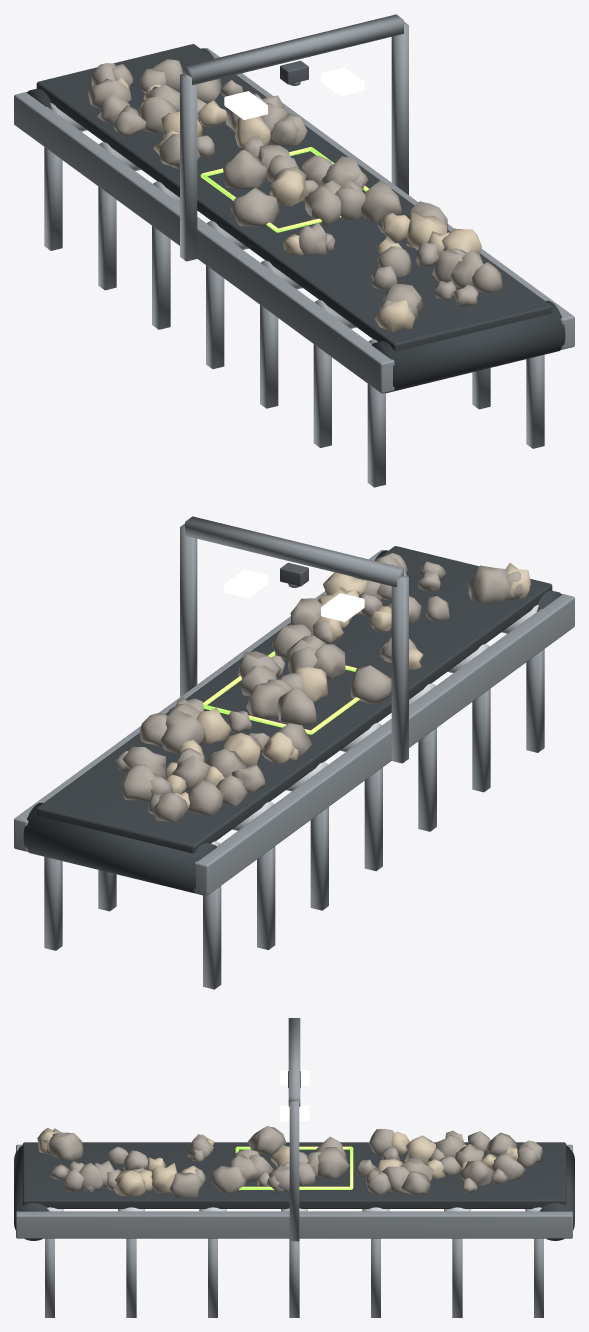
File: smart-conveyor-monitoring.glb
3 renders of one model, top to bottom at view 1: azimuth 30°, elevation 25°; view 2: azimuth 150°, elevation 25°; view 3: azimuth 270°, elevation 25°, orthographic. The views are drawn at different scales.
Visible parts, largest first — view 1: Rubber_Belt_0024, Steel_Rail_0001, Drum_0025, Crossbar_0101, Support_0099, Support_0100, Steel_Rail_0002, Leg_0003, Leg_0006, Leg_0021, Leg_0015, Leg_0018 (+30 smaller); view 2: Rubber_Belt_0024, Steel_Rail_0001, Drum_0026, Crossbar_0101, Support_0099, Support_0100, Steel_Rail_0002, Leg_0021, Leg_0018, Leg_0003, Leg_0006, Leg_0009 (+31 smaller); view 3: Rubber_Belt_0024, Steel_Rail_0002, Support_0100, Crossbar_0101, Leg_0007, Leg_0019, Leg_0013, Drum_0025, Drum_0026, Ore_0052, Leg_0004, Leg_0010 (+22 smaller).
Boxes of the visible parts, x1,y1,x2,y2 form: Rubber_Belt_0024: [36, 44, 552, 351]; Steel_Rail_0001: [14, 92, 394, 393]; Drum_0025: [372, 300, 565, 393]; Crossbar_0101: [185, 14, 403, 85]; Support_0099: [180, 73, 197, 261]; Support_0100: [391, 22, 408, 194]; Steel_Rail_0002: [204, 48, 574, 349]; Leg_0003: [367, 384, 385, 487]; Leg_0006: [313, 344, 331, 447]; Leg_0021: [44, 147, 62, 250]; Leg_0015: [152, 226, 170, 329]; Leg_0018: [98, 186, 116, 290]; Rubber_Belt_0024: [36, 546, 552, 853]; Steel_Rail_0001: [194, 594, 574, 895]; Drum_0026: [23, 802, 216, 895]; Crossbar_0101: [185, 516, 403, 587]; Support_0099: [391, 575, 408, 763]; Support_0100: [180, 524, 197, 696]; Steel_Rail_0002: [14, 550, 384, 851]; Leg_0021: [203, 886, 221, 989]; Leg_0018: [257, 846, 275, 949]; Leg_0003: [526, 649, 544, 752]; Leg_0006: [472, 688, 490, 792]; Leg_0009: [418, 728, 436, 831]; Rubber_Belt_0024: [22, 1142, 566, 1208]; Steel_Rail_0002: [16, 1211, 572, 1238]; Support_0100: [289, 1101, 299, 1241]; Crossbar_0101: [288, 1018, 300, 1106]; Leg_0007: [126, 1238, 136, 1317]; Leg_0019: [452, 1238, 462, 1317]; Leg_0013: [289, 1239, 299, 1317]; Drum_0025: [14, 1145, 49, 1240]; Drum_0026: [539, 1145, 574, 1240]; Ore_0052: [48, 1132, 84, 1160]; Leg_0004: [45, 1238, 54, 1317]; Leg_0010: [208, 1238, 217, 1317].
Bounding box in the file's own units: 1.43 × 1.86 × 4.13.
